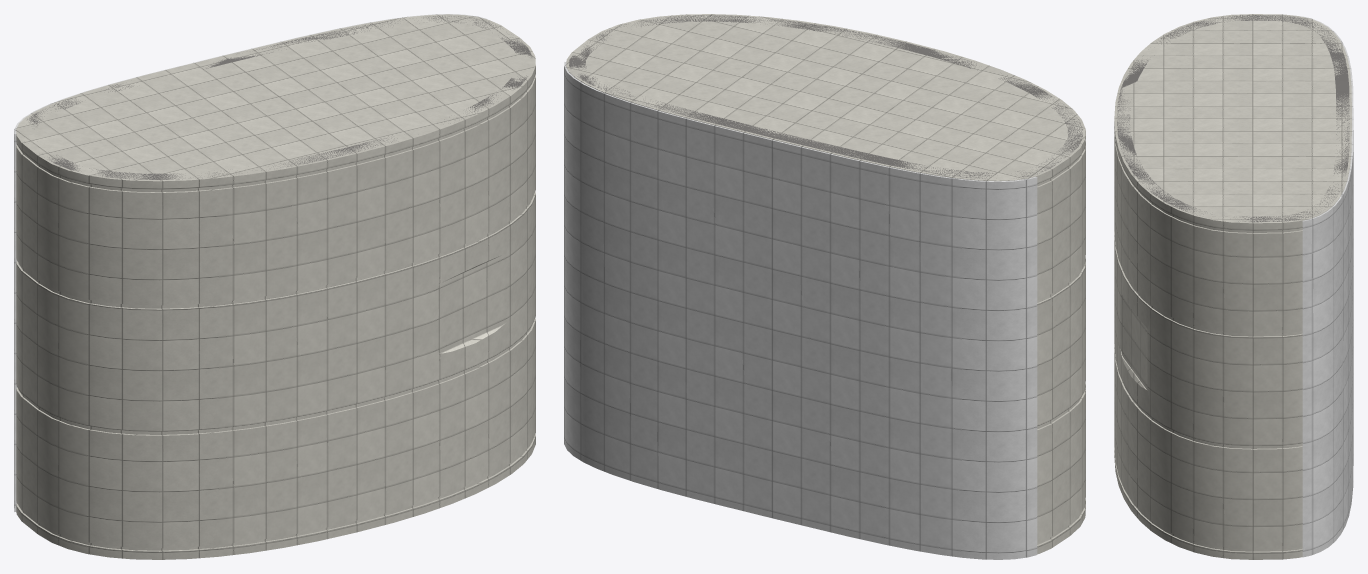
File: ax_aero_08_fs2x_fuselage_short.glb
The picture shows the model from 3 angles, left to right: view 1: azimuth 30°, elevation 25°; view 2: azimuth 150°, elevation 25°; view 3: azimuth 270°, elevation 25°; orthographic projection. The views are drawn at different scales.
Visible parts, largest first — view 1: fuselage, end_frames, belly_tiles; view 2: belly_tiles, fuselage, end_frames; view 3: fuselage, belly_tiles, end_frames.
Boxes of the visible parts, bbox=[...] form: fuselage: bbox=[16, 14, 535, 559]; end_frames: bbox=[27, 15, 532, 180]; belly_tiles: bbox=[14, 14, 487, 511]; belly_tiles: bbox=[564, 62, 1037, 559]; fuselage: bbox=[566, 14, 1085, 554]; end_frames: bbox=[569, 15, 1082, 178]; fuselage: bbox=[1114, 14, 1351, 559]; belly_tiles: bbox=[1302, 16, 1353, 557]; end_frames: bbox=[1117, 15, 1349, 222].
Size of the model in its own units: 2.5 by 1.88 by 1.21.
Materials: 3 (3 with a texture image).
